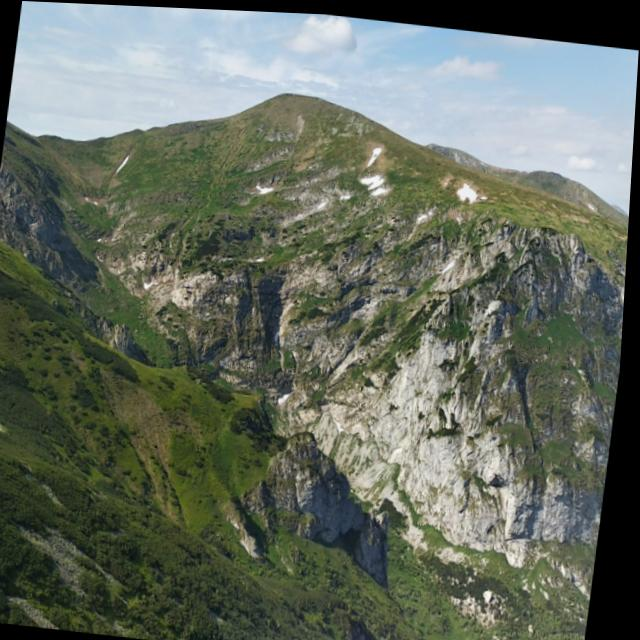Krzesanica: (398, 121, 464, 166)
Malolaczniak: (161, 8, 432, 195)
